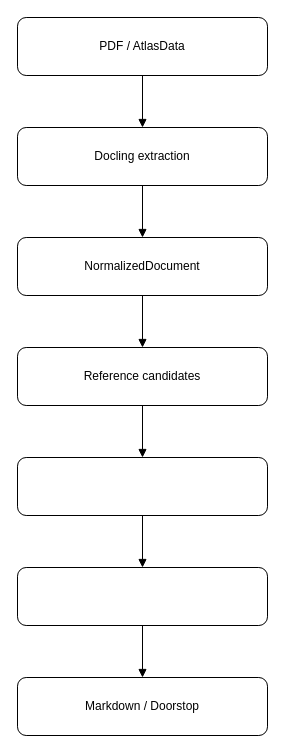
This 285x753 diagram has some shape labels left out. The centre of each missing label's shape, as x and y in pixels:
"Alignment + review" belongs at (142,486).
"EngineeringDocument" belongs at (142,596).
